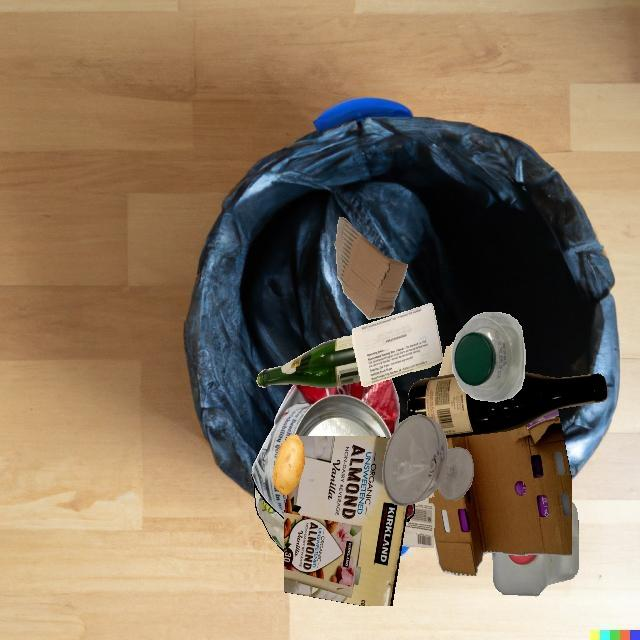biowaste: (273, 434, 305, 495)
cardboard: (428, 409, 572, 576), (284, 436, 409, 606), (334, 217, 408, 320), (438, 342, 454, 376)
glass: (407, 372, 607, 438), (382, 414, 474, 506), (257, 335, 361, 388)
metal: (251, 378, 399, 519)
paper: (352, 303, 443, 387), (254, 484, 284, 552), (402, 492, 434, 548)
plastic: (492, 502, 579, 596), (451, 312, 526, 402)
